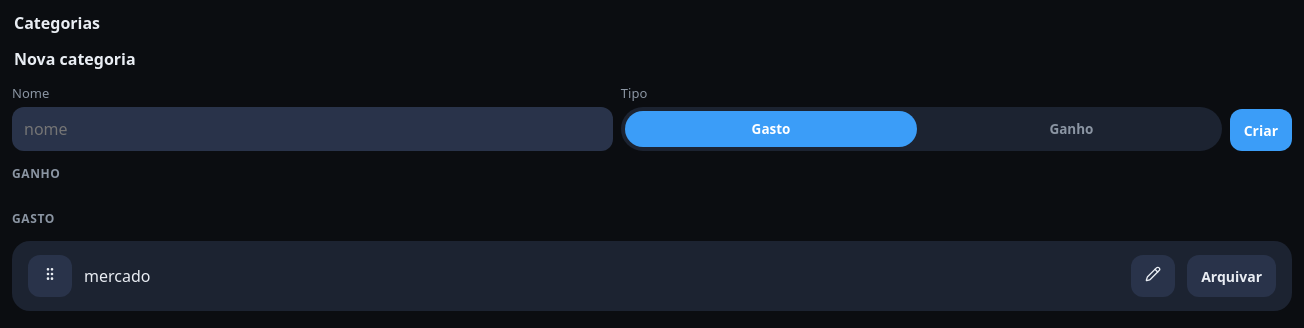
Test case: toca no lápis para editar: abre os campos dentro do item e some "Nova categoria"
The image size is (1304, 328).
Expected: the heading "Nova categoria" is shown, [14,48,136,70]
Click the button named "Editar": (1153, 276) [1131,255,1175,297]
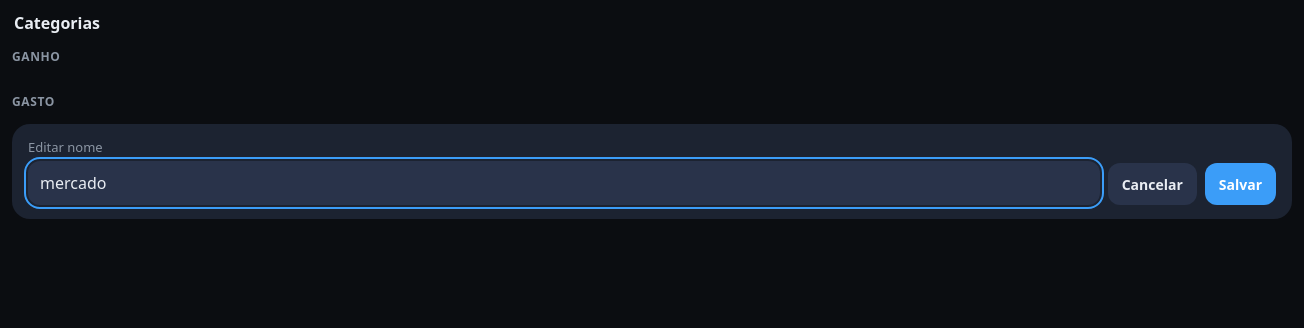
Now the heading "Nova categoria" is gone
Now the field labelled "Editar nome" holds "mercado", box [28,161,1100,205]
